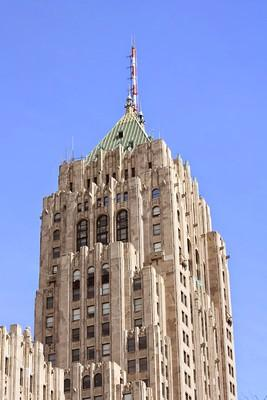building: (35, 119, 239, 400)
